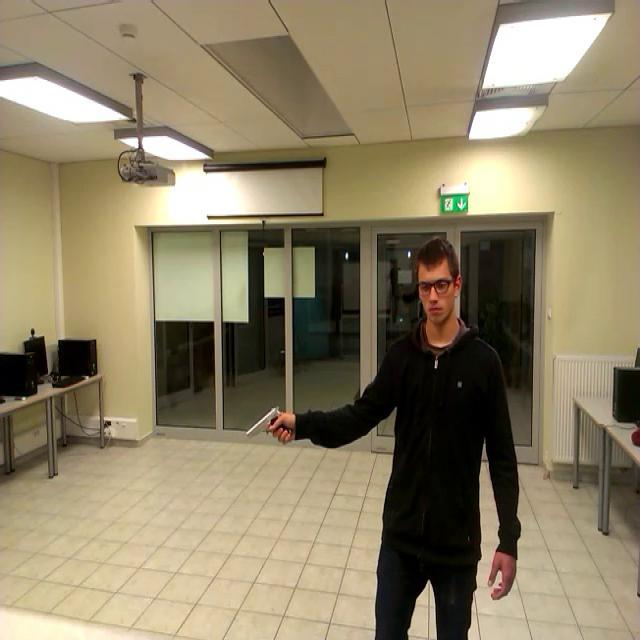Gun: (245, 404, 292, 436)
